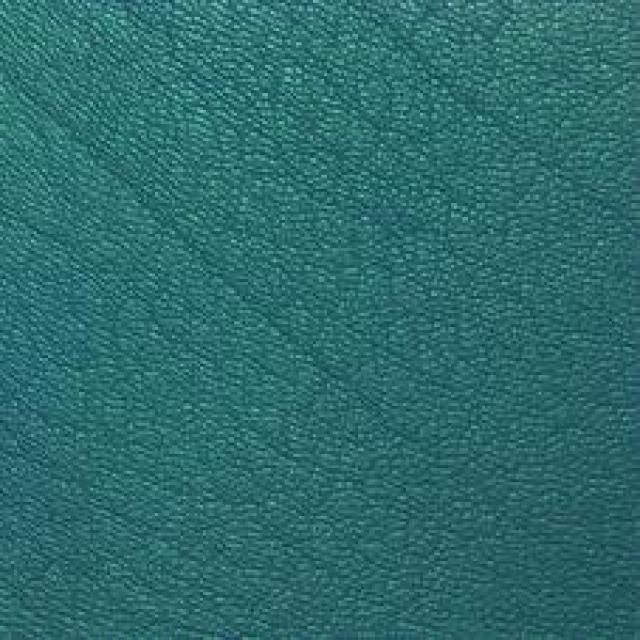Growth Marks: (431, 49, 586, 207), (214, 259, 361, 406), (42, 94, 200, 227)
